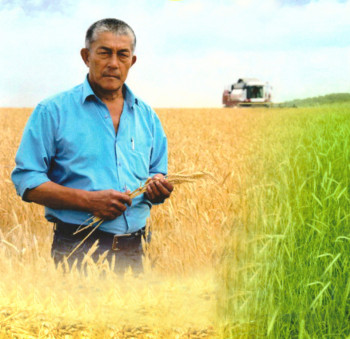person: (8, 16, 181, 303)
